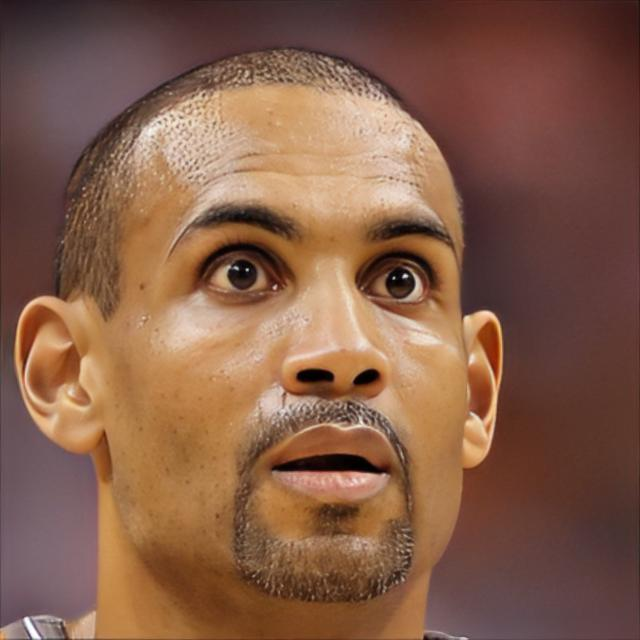surprise: (104, 50, 472, 601)
